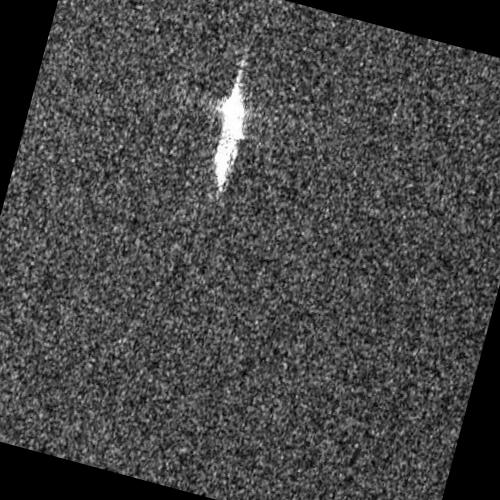ship: (213, 85, 246, 193)
